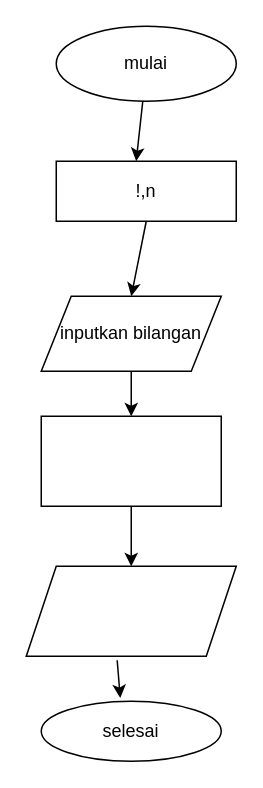
Some shapes in this 263 by 788 pixel diagram are drawn without their labels. Here are the shapes that lost their labels. From the top down, the box of each, then its label:
(40, 415, 221, 506): n!=n*(n-1)
(25, 565, 236, 656): cetak hasil bilangan
